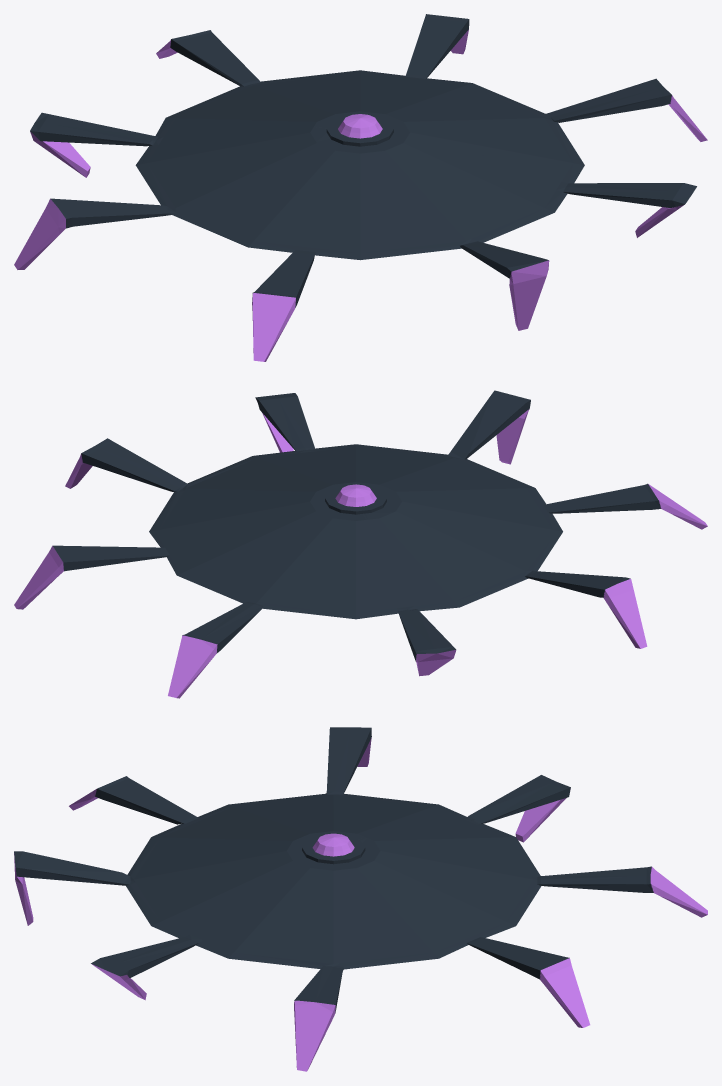
File: Spider_Walk_000009.obj
The picture shows the model from 3 angles, top to bottom: view 1: azimuth 30°, elevation 25°; view 2: azimuth 150°, elevation 25°; view 3: azimuth 270°, elevation 25°; orthographic projection. The views are drawn at different scales.
Visible parts, largest first — view 1: Circle_Circle.001; view 2: Circle_Circle.001; view 3: Circle_Circle.001.
Part boxes in pixels (x1,y1,x2,y2): Circle_Circle.001: (14,14,707,361); Circle_Circle.001: (14,390,707,698); Circle_Circle.001: (14,727,707,1071).
Bounding box in the file's own units: 3.39 × 0.4534 × 3.29.
